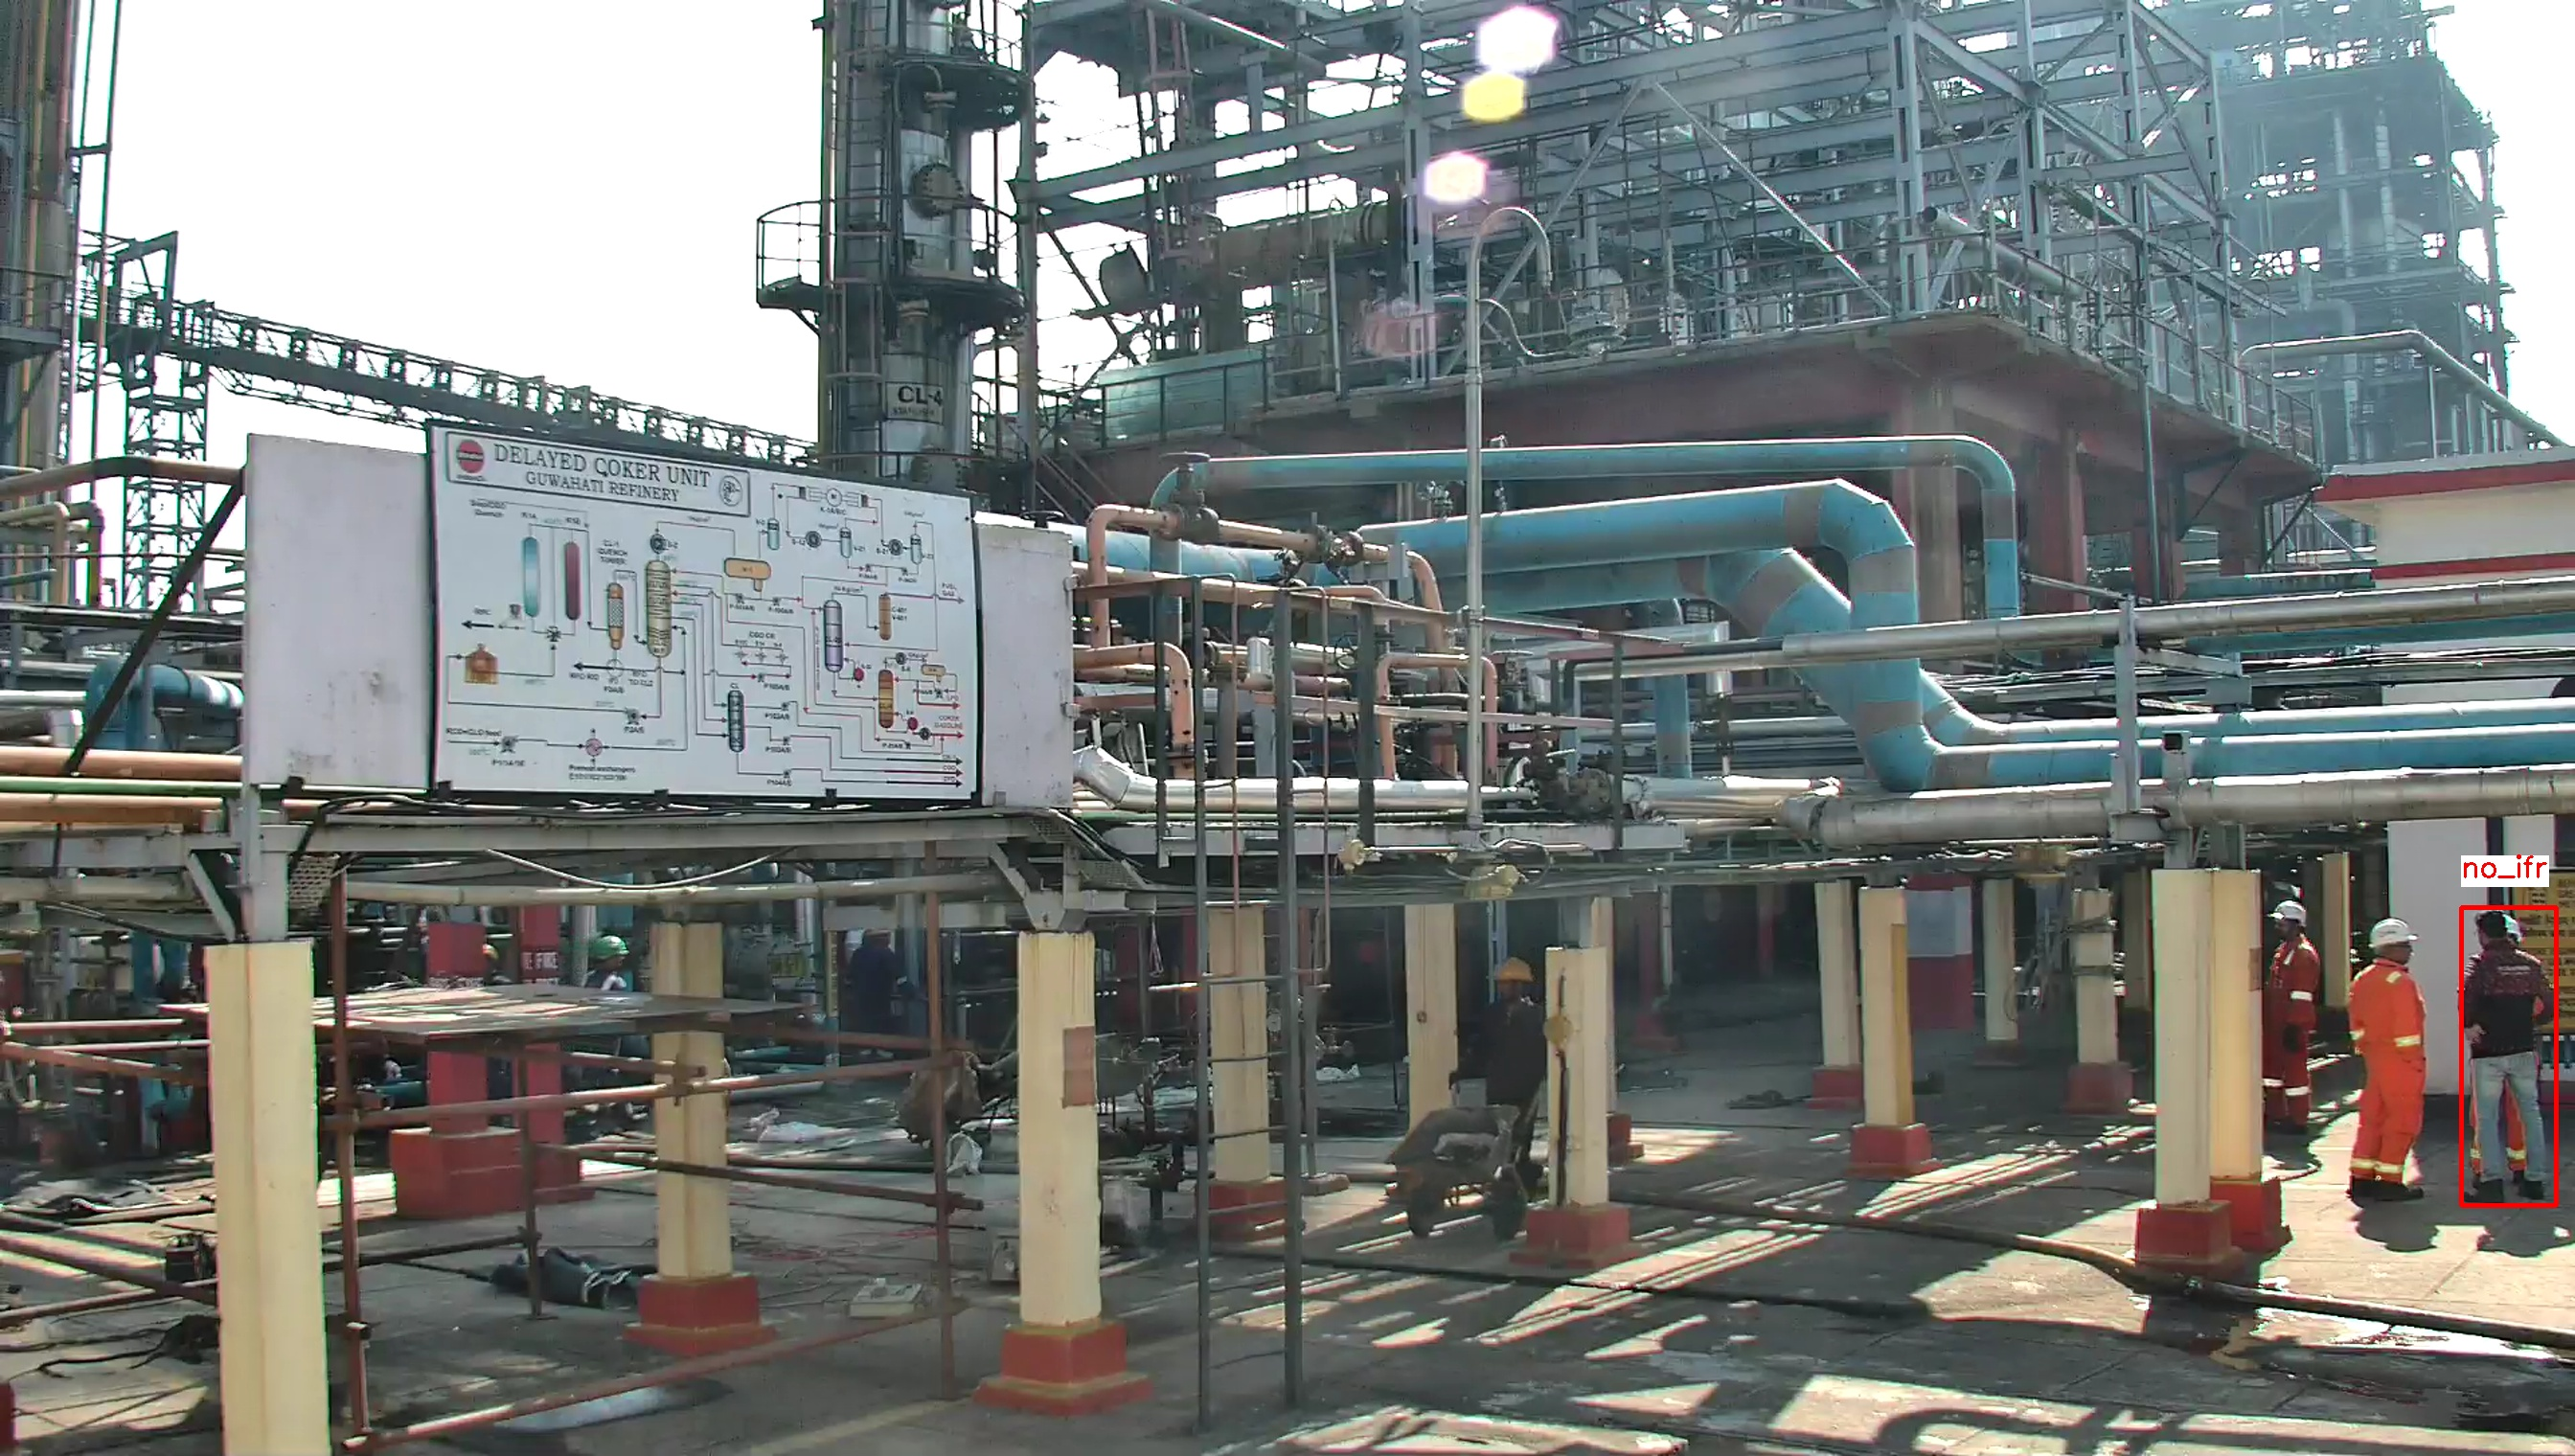Helmets: (2365, 916, 2419, 950), (2267, 897, 2308, 925)
IFR_Suit: (2350, 961, 2425, 1178), (2264, 939, 2324, 1118)
